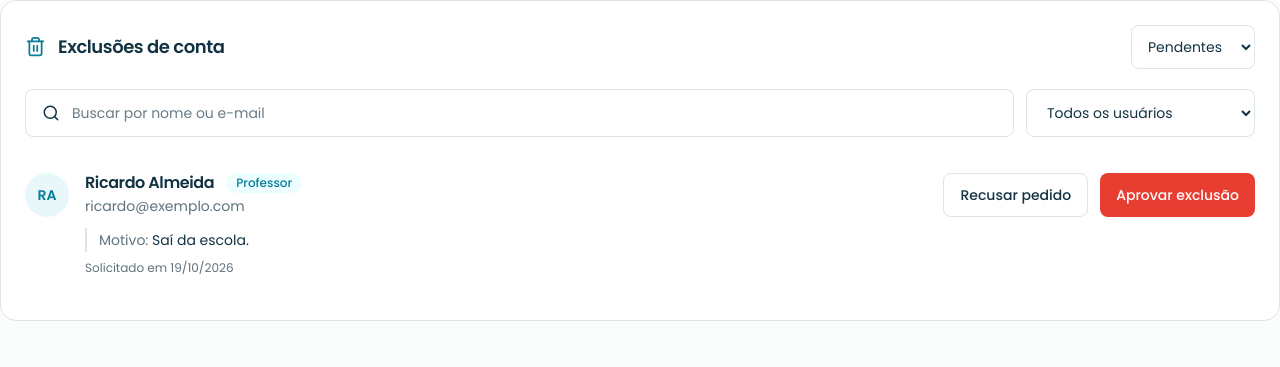
Scenario: recusa o pedido sem excluir a conta e permite buscar por nome
Later steps or results of the test are not shown.
Expected: the heading "Ricardo Almeida" is shown, [85,173,214,194]
Type "ausente" into the search field at (534, 113), box [72,103,997,123]
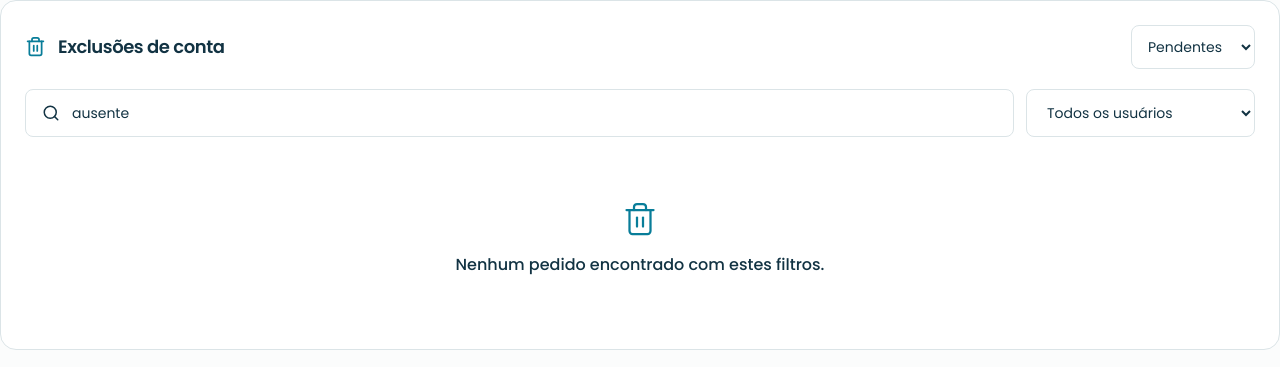
Expected: the text "Nenhum pedido encontrado com estes filtros." is shown, [456,253,824,277]
